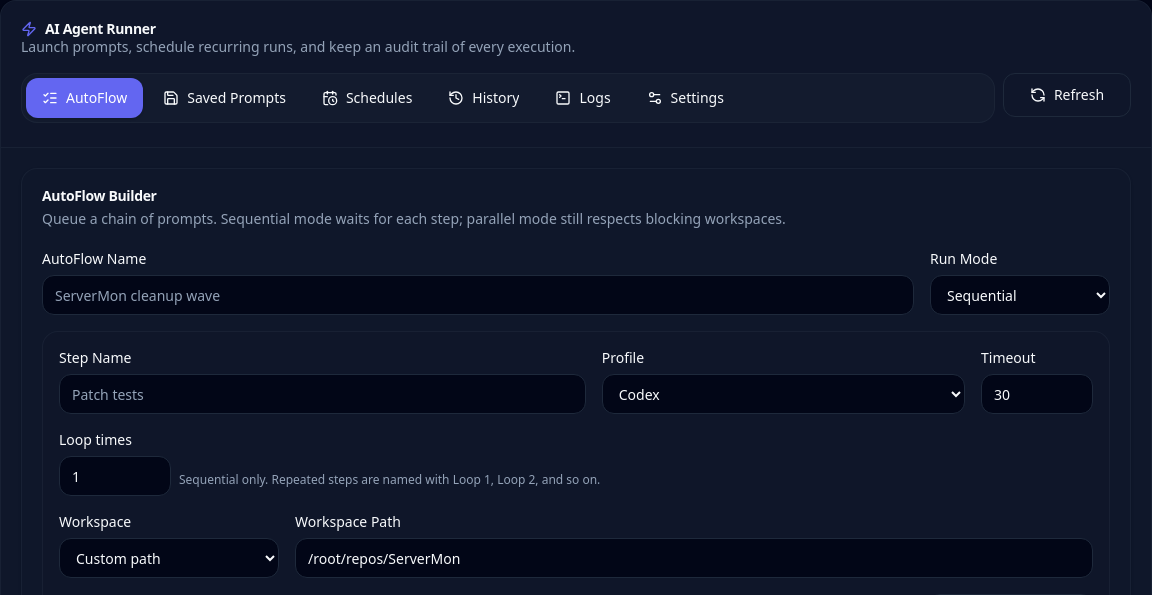
AIRunnerPage › shows a live countdown and last run label on schedule rows
This screenshot has width=1152, height=595.
Expected: the heading "AI Agent Runner" is shown, [21,19,156,38]
Click the tab "Schedules" at x=367, y=98, box [306,78,428,118]
Wait 2000 ms
(page scrolled)
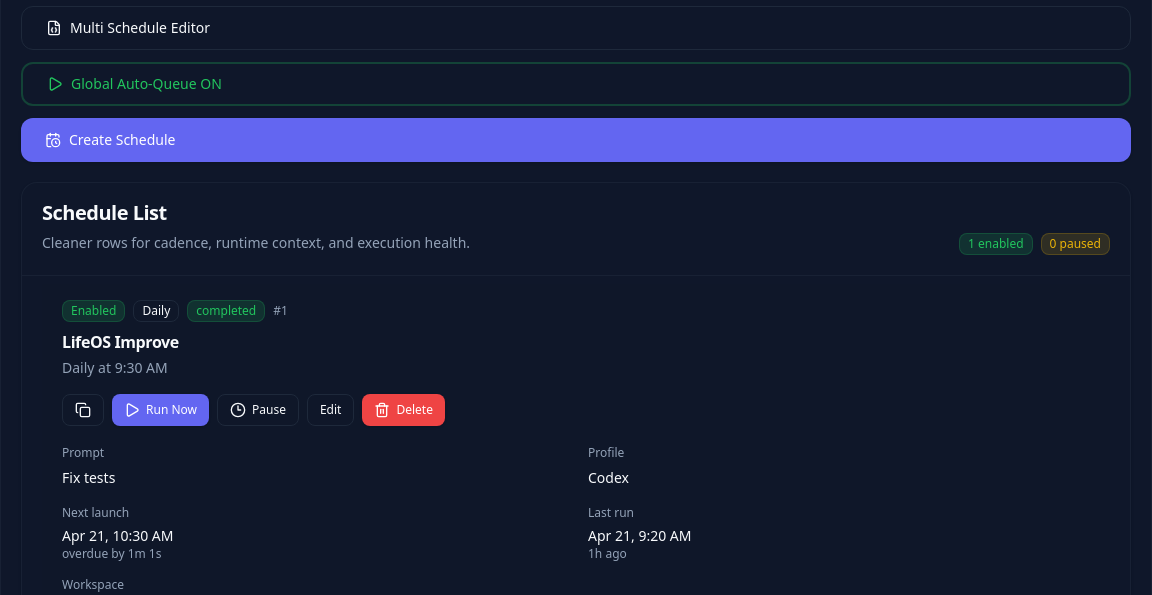
Now the text "Last run" is shown, box [588,504,634,521]
Now the text "5m ago" is shown, box [588,545,627,562]
Now the text "overdue by 1m 1s" is shown, box [62,545,162,562]
